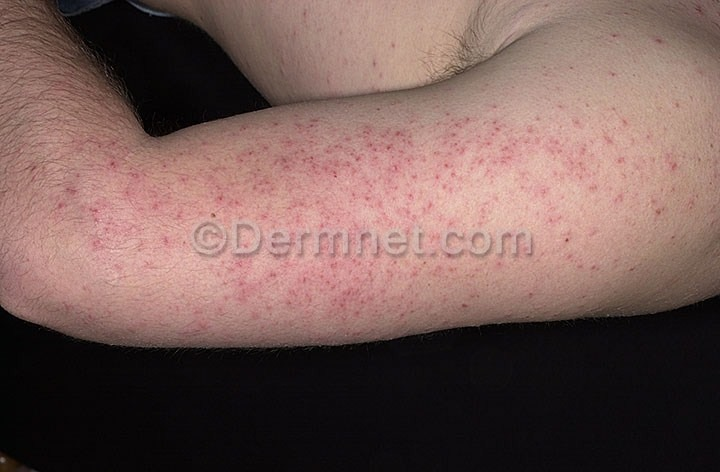Eczema: (20, 72, 713, 327)
